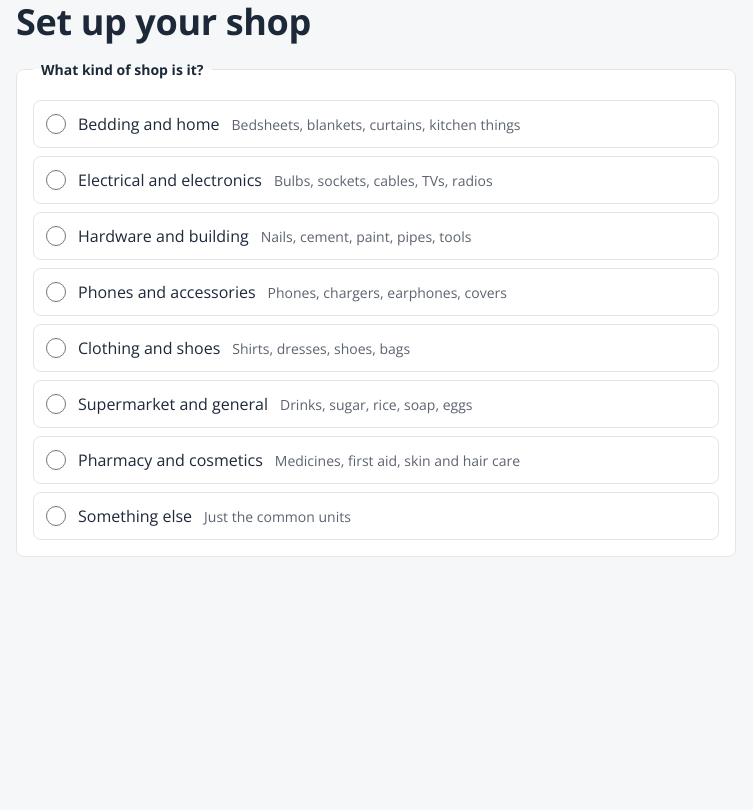
Test: Set up your shop (issue #625) › asks what kind of shop it is, lists that kind ticked, and adds what is left ticked
This screenshot has width=753, height=810.
Expected: the text "What kind of shop is it?" is shown, [33,59,212,80]
Click the radio button labelled "Hardware and building Nails, cement, paint, pipes, tools" at (56, 236), box [46,226,66,246]
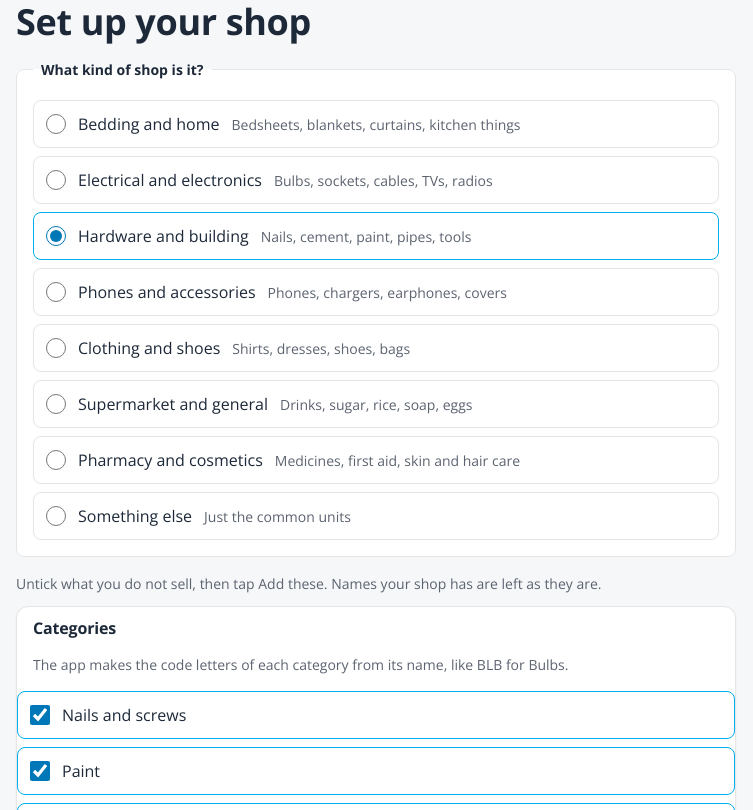
Now the checkbox labelled "Nails and screws" is shown, box [30,705,50,725]
Click the checkbox labelled "Paint" at (40, 771), box [30,761,50,781]
(page scrolled)
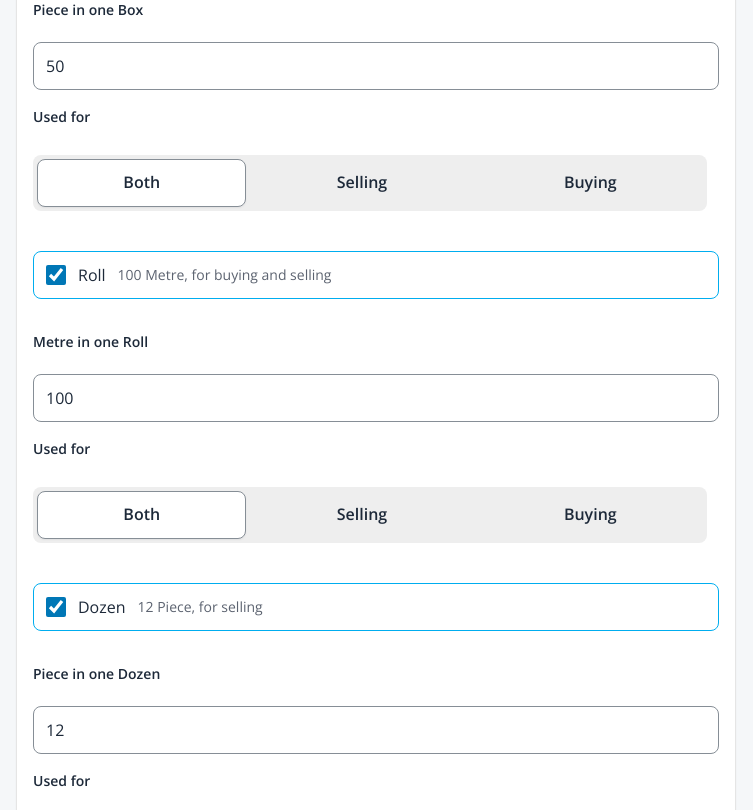
Replace the text in the field labelled "Metre in one Roll" with "50" at (376, 398), box [33,374,719,422]
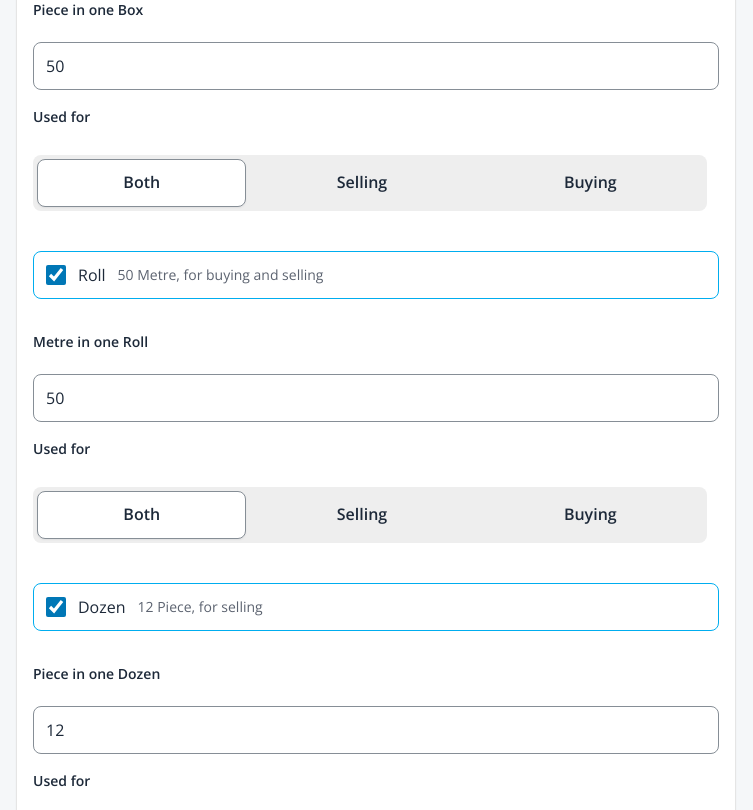
Click the radio button labelled "Selling" below "Metre in one Roll" at (362, 515), box [250,491,474,539]
(page scrolled)
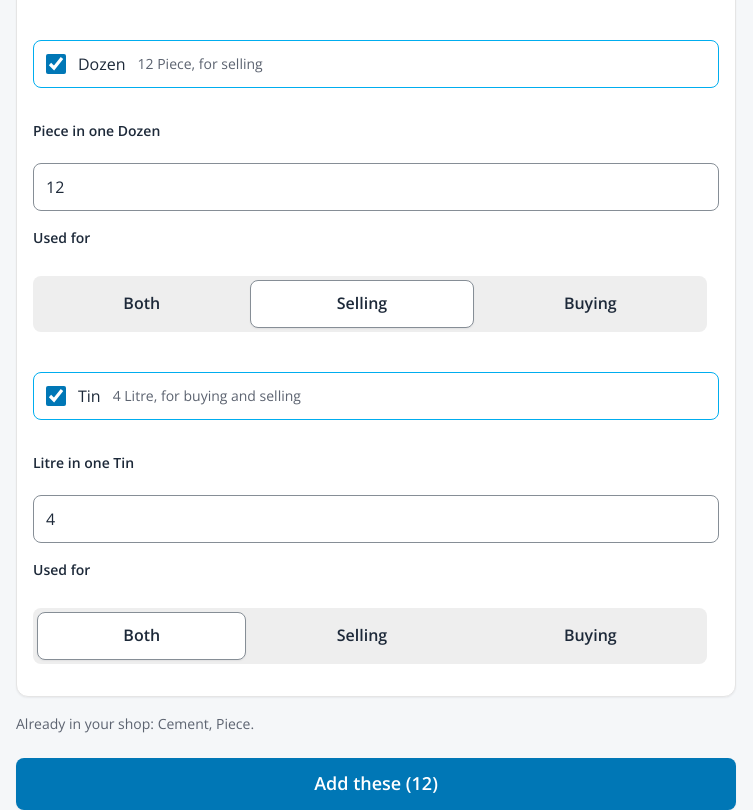
Click the button "Add these (12)" at (376, 784), box [16,758,736,809]
(page scrolled)
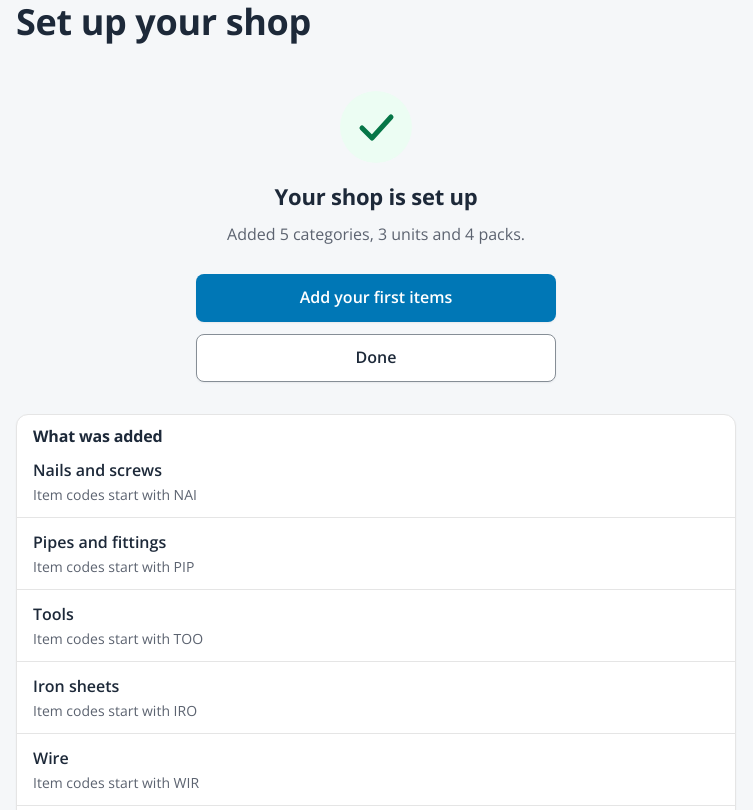
Now the heading "Your shop is set up" is shown, box [274,183,477,210]
Now the text "Added 5 categories, 3 units and 4 packs." is shown, box [227,222,525,246]
Now the text "Item codes start with NAI" is shown, box [33,485,197,504]
